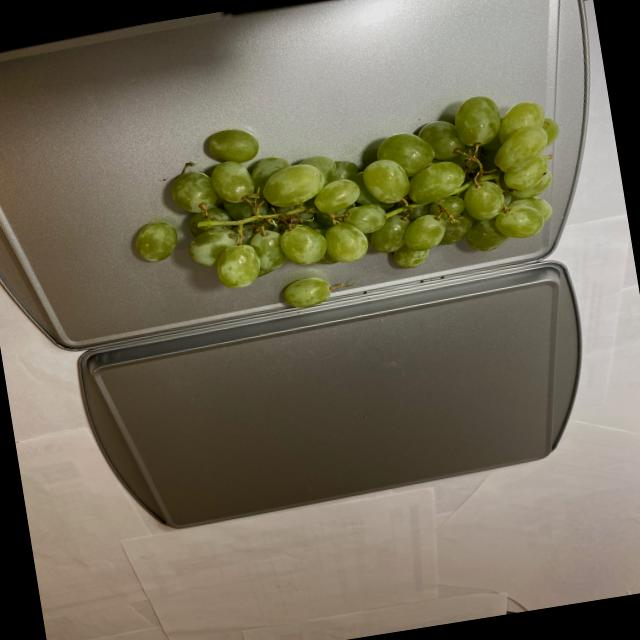grapes: (118, 80, 572, 328)
